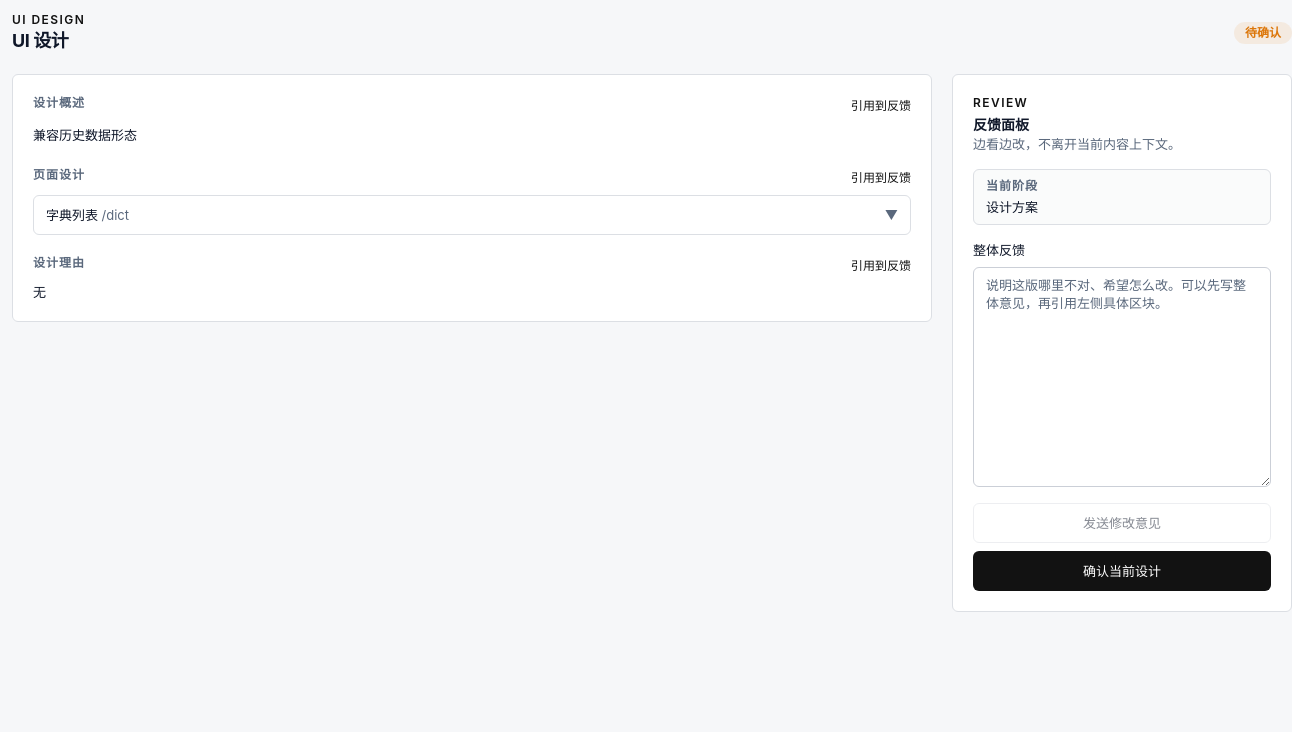
Test: IdeationDesignPanel › renders legacy interaction shape without crashing
This screenshot has width=1292, height=732.
Click the button "字典列表 /dict ▼" at x=72, y=215, box [34, 196, 910, 234]
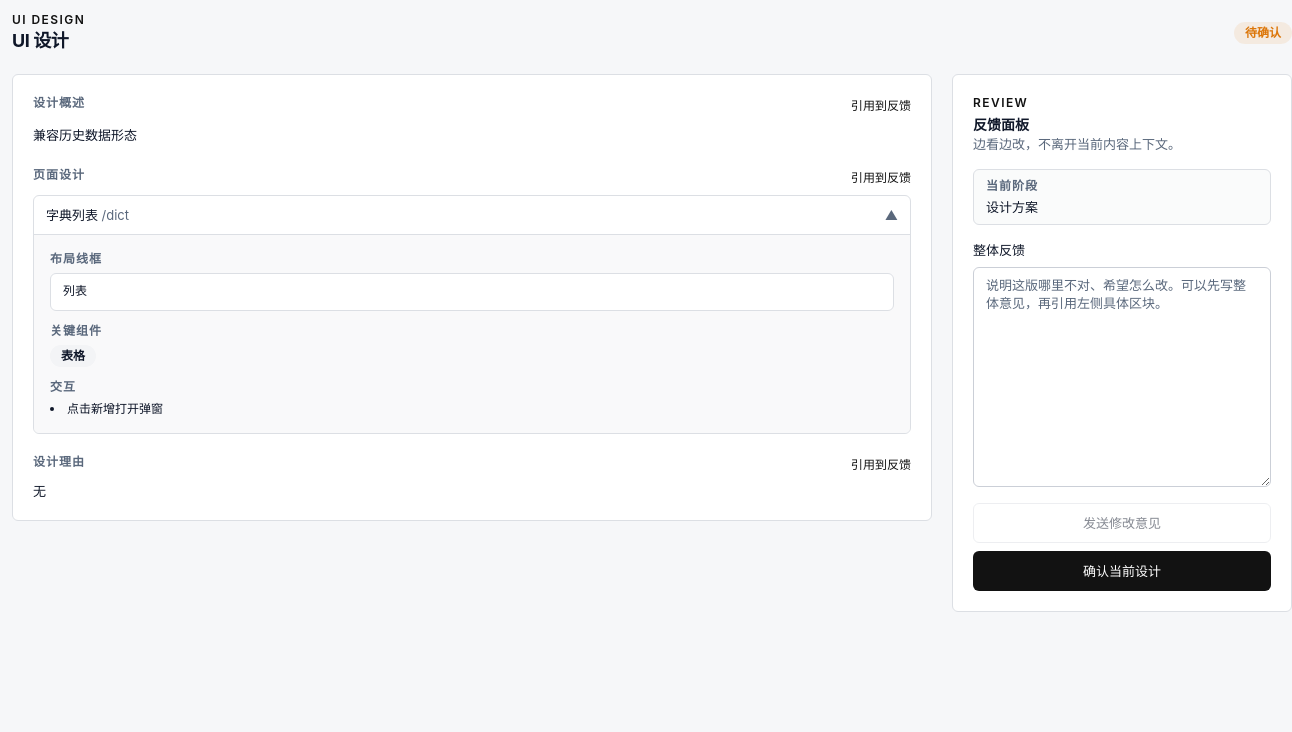
Check: the text "点击新增打开弹窗" is shown, box [67, 401, 163, 416]
